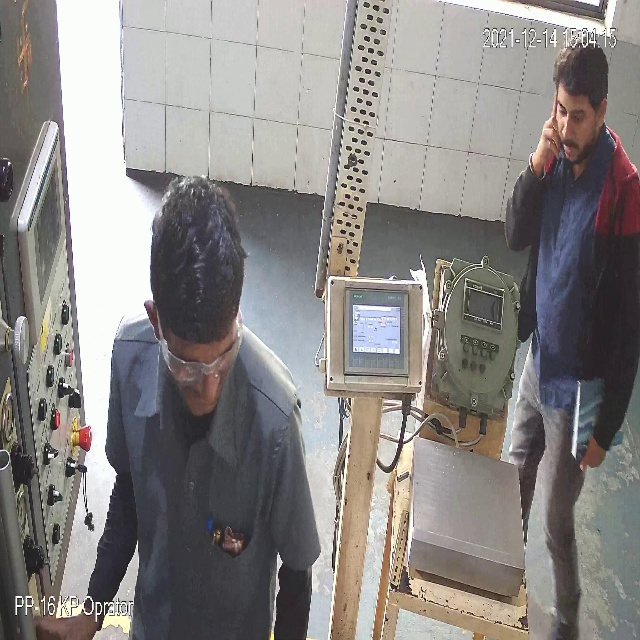Sin_gafas: (553, 96, 585, 127)
Sin_mascara: (555, 127, 590, 166)
